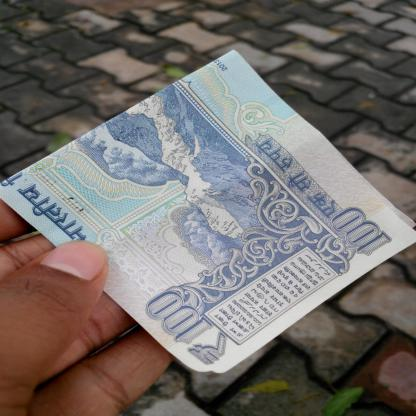Old100Back: (0, 48, 416, 376)
